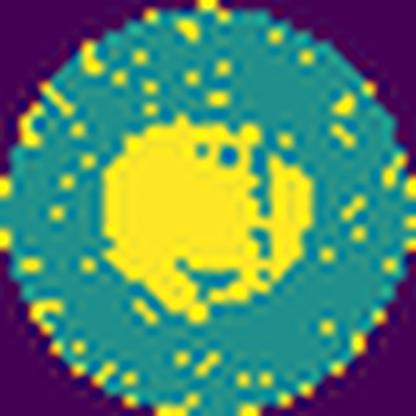Center: (106, 122, 316, 325)
